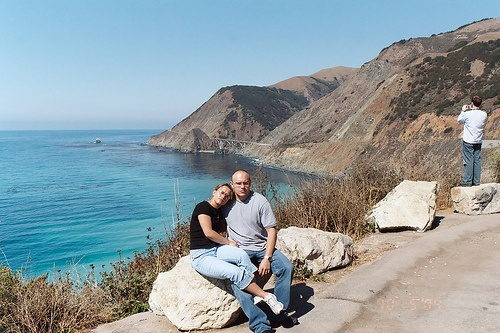head: (230, 170, 252, 200), (212, 183, 233, 206), (467, 92, 485, 115)
person: (188, 166, 281, 333), (456, 93, 487, 183)
